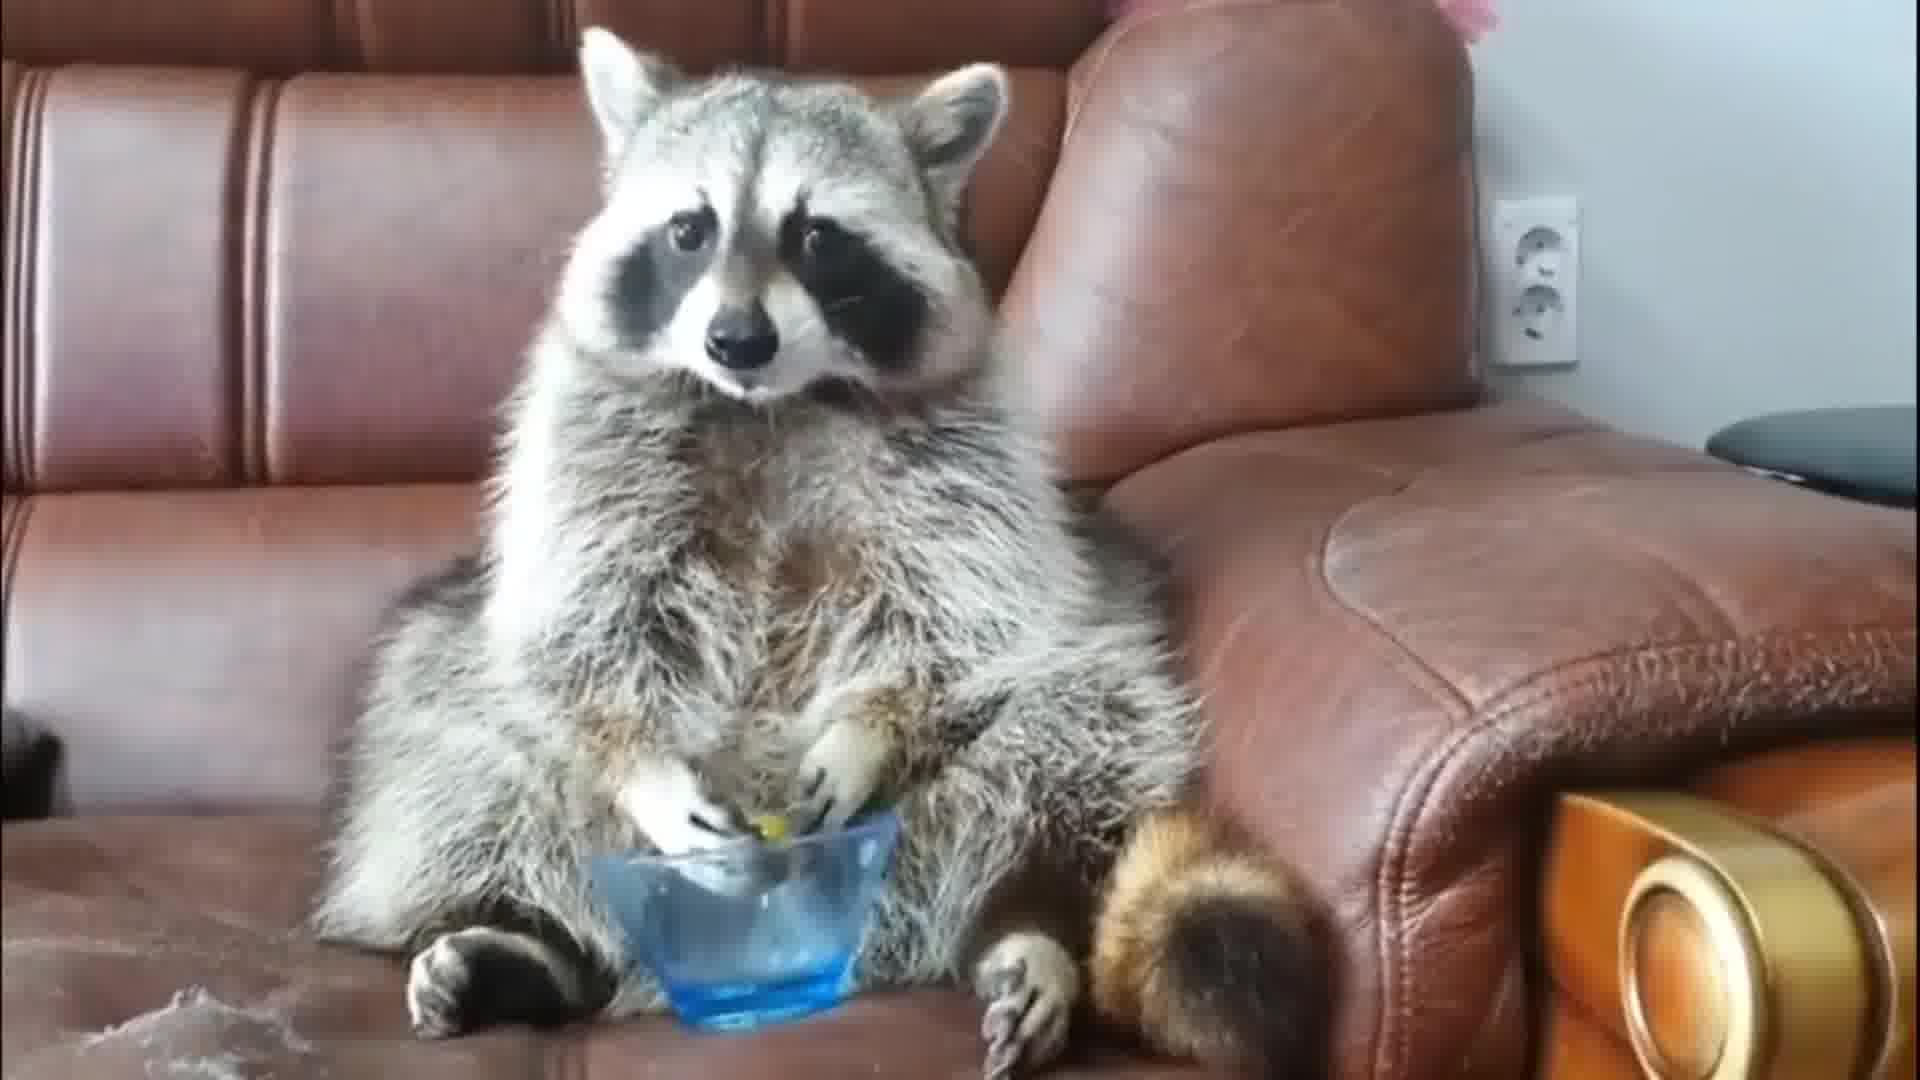raccoon: (315, 20, 1344, 1080)
